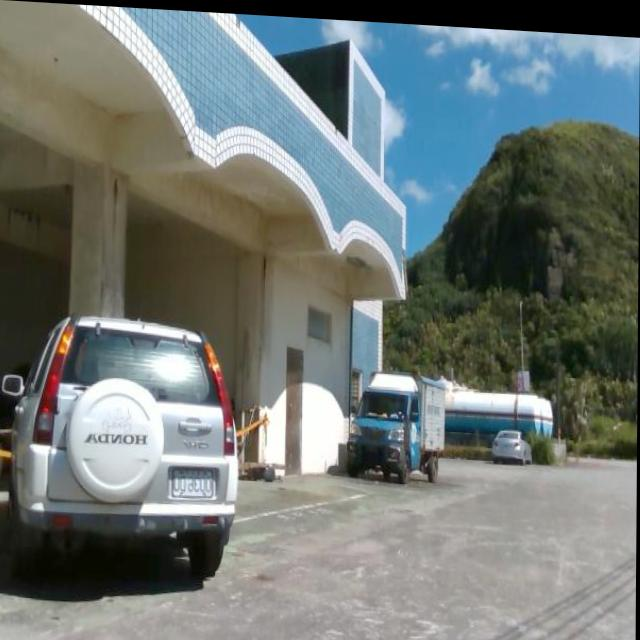pollute: (240, 457, 283, 483)
